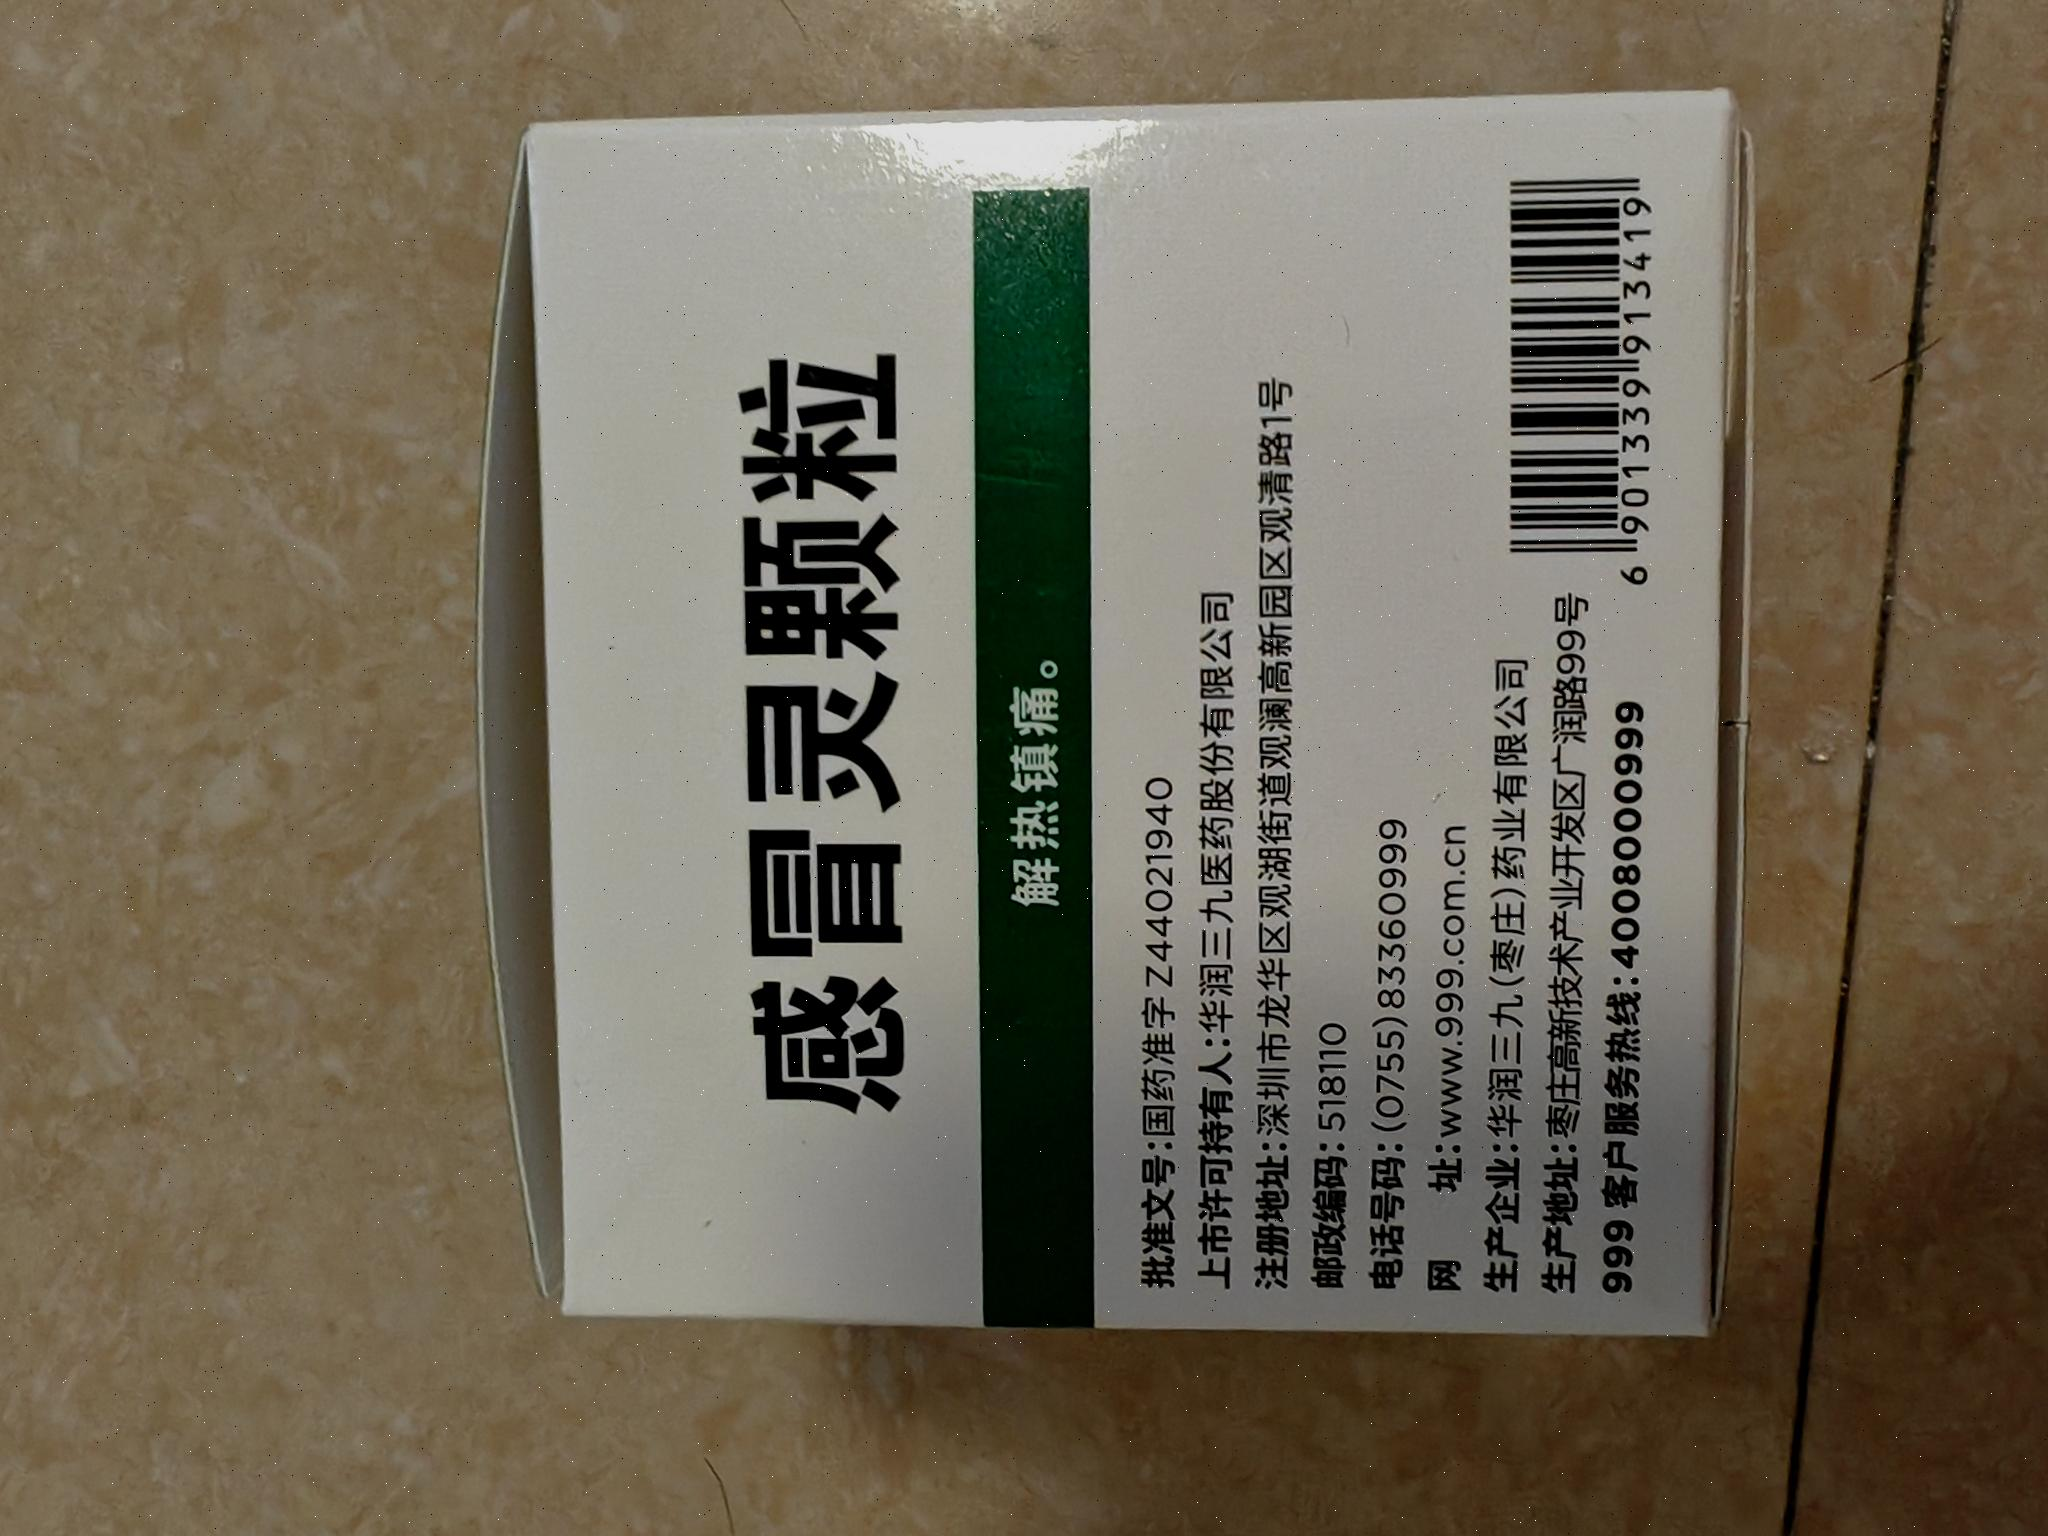Medicine3: (437, 68, 1774, 1362)
